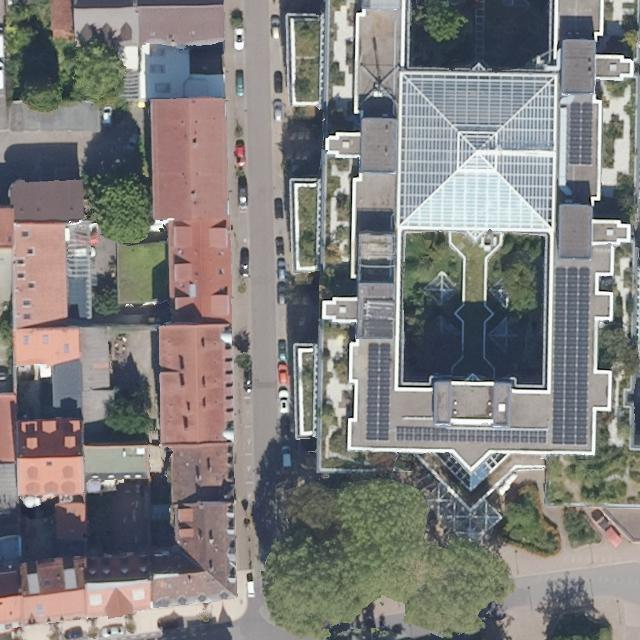PV: (552, 267, 588, 445), (396, 427, 547, 445), (366, 343, 391, 440), (567, 103, 592, 165)
